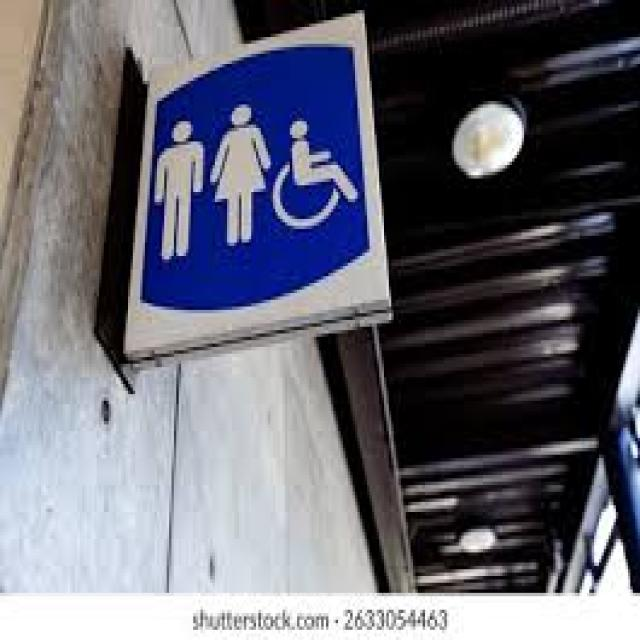toilet_icon: (148, 80, 363, 274)
